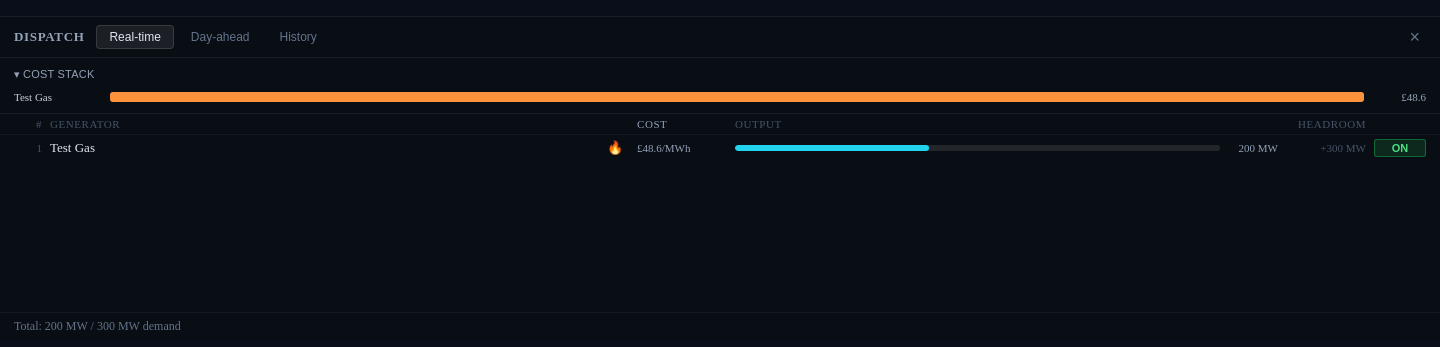
Test: DispatchPanel › Real-time tab — merit order table › collapses slider row on second click
Click the button with test id "dispatch-row-gen-1" at (72, 148), box x1=0 y1=135 x2=1439 y2=161
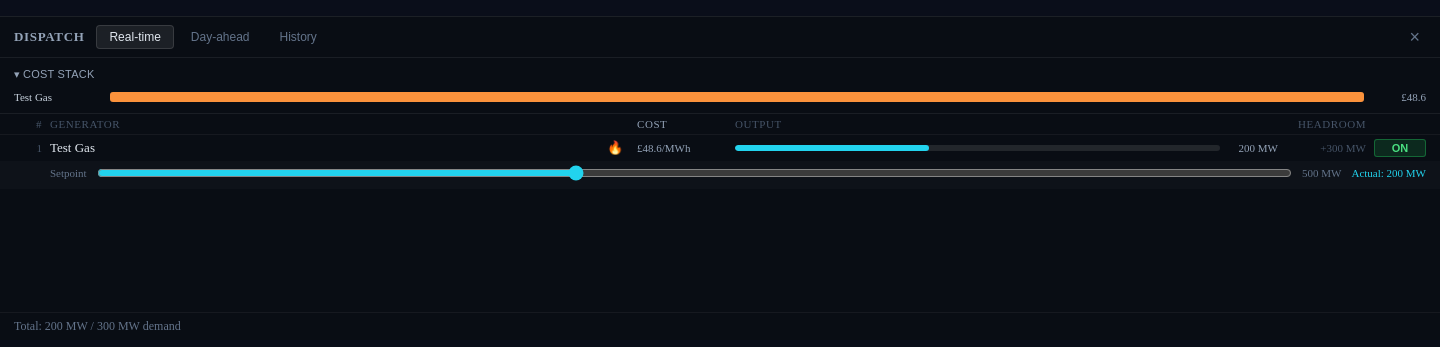
Click the button with test id "dispatch-row-gen-1" at (72, 148), box x1=0 y1=135 x2=1439 y2=161
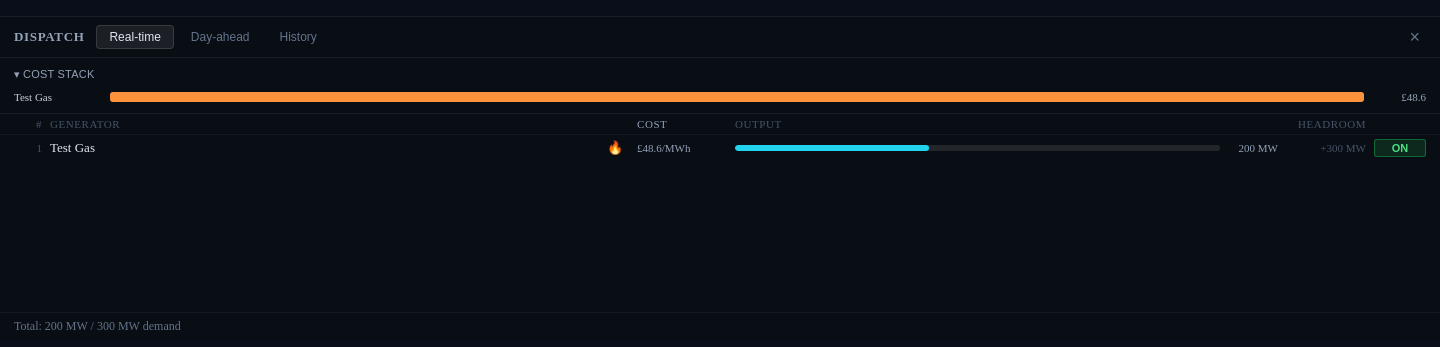
Result: the element with test id "slider-row-gen-1" is gone
